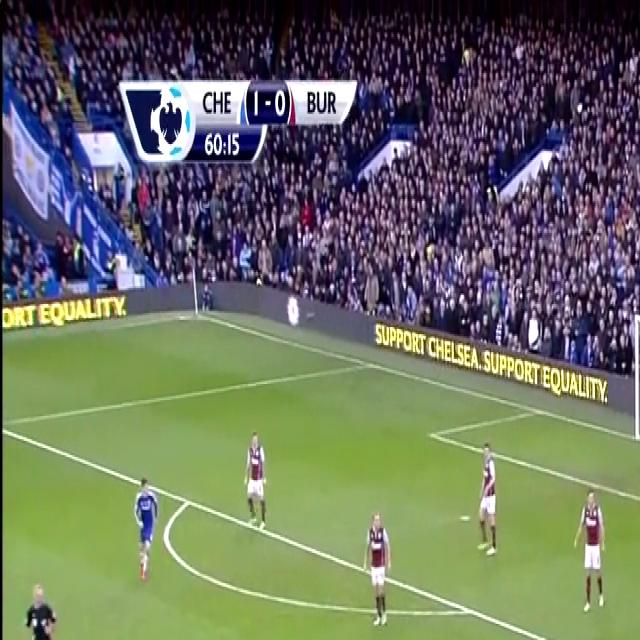referee: (23, 570, 65, 640)
soccer-player: (568, 477, 612, 623), (364, 499, 404, 638), (466, 428, 502, 562), (130, 466, 164, 591), (237, 418, 271, 538)
